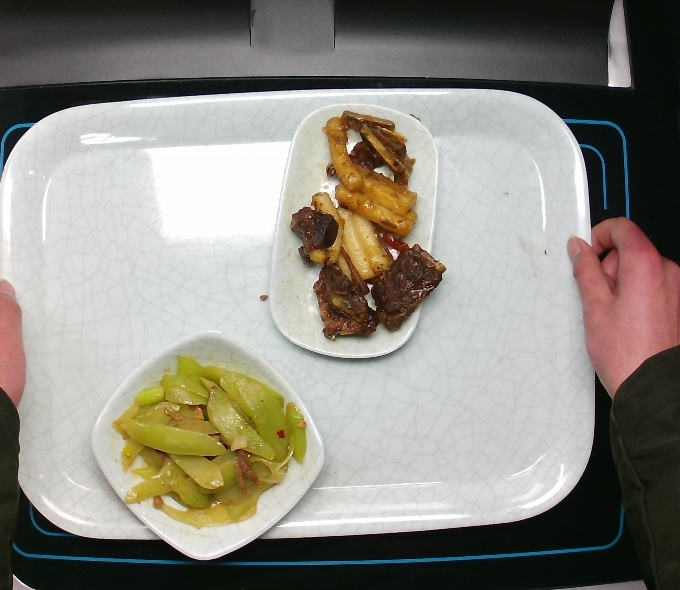wcq-NianGaoZaiPai: (286, 106, 457, 348)
wcq-WoSun: (112, 351, 321, 537)
